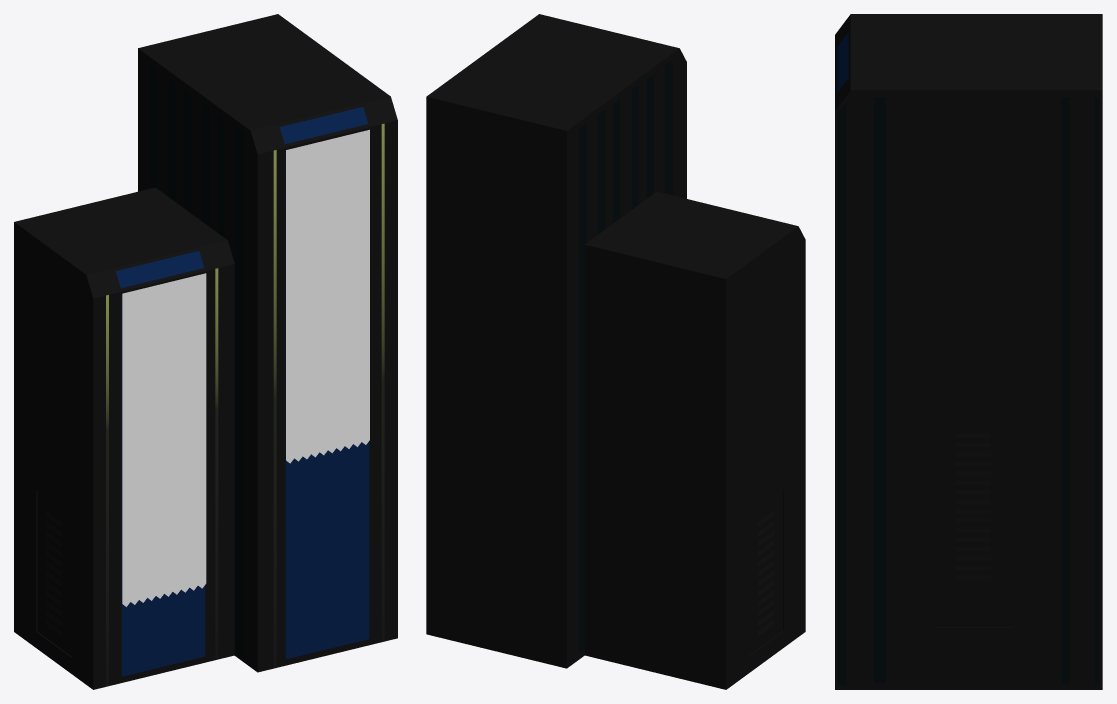
Rendered from Building_Spaxe_2st_L3.fbx.
3 views of the same model, side by side, from view 1: azimuth 30°, elevation 25°; view 2: azimuth 150°, elevation 25°; view 3: azimuth 270°, elevation 25° (orthographic). The views are drawn at different scales.
Parts seen in each view (by area): view 1: Building_Spaxe_2st_L3; view 2: Building_Spaxe_2st_L3; view 3: Building_Spaxe_2st_L3.
Boxes of the visible parts, x1=… form: Building_Spaxe_2st_L3: x1=14, y1=14, x2=397, y2=689; Building_Spaxe_2st_L3: x1=426, y1=14, x2=805, y2=689; Building_Spaxe_2st_L3: x1=835, y1=14, x2=1102, y2=689.
Bounding box in the file's own units: 47.27 × 34.83 × 85.9.
